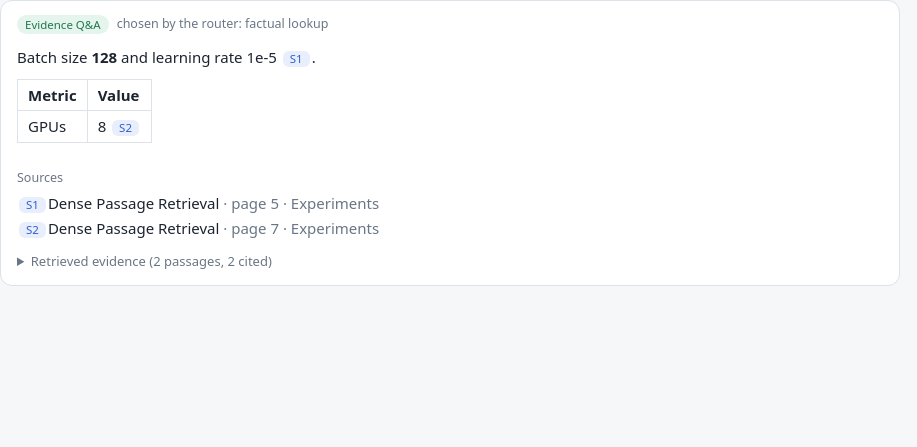
Test: EvidenceAnswer › opens the retrieved passages and highlights the clicked source
Click the button named "Show source S2" at (126, 128), box x1=112 y1=120 x2=139 y2=136
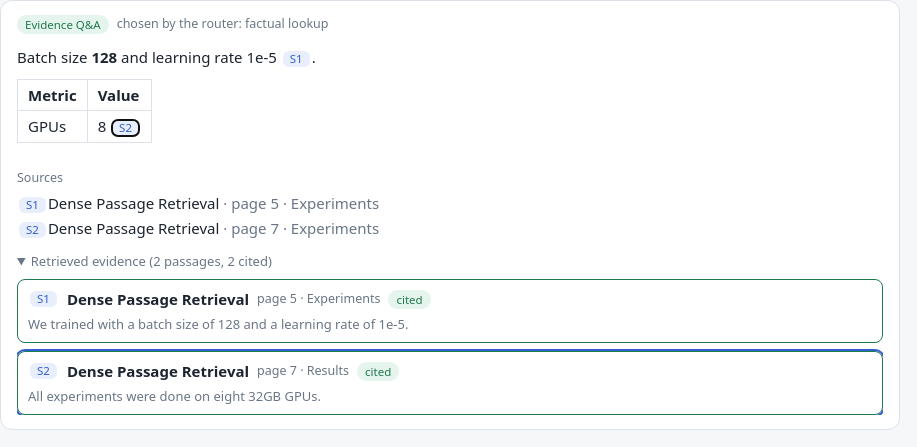
Expected: the text "All experiments were done on eight 32GB GPUs." is shown, x1=28 y1=386 x2=321 y2=404
